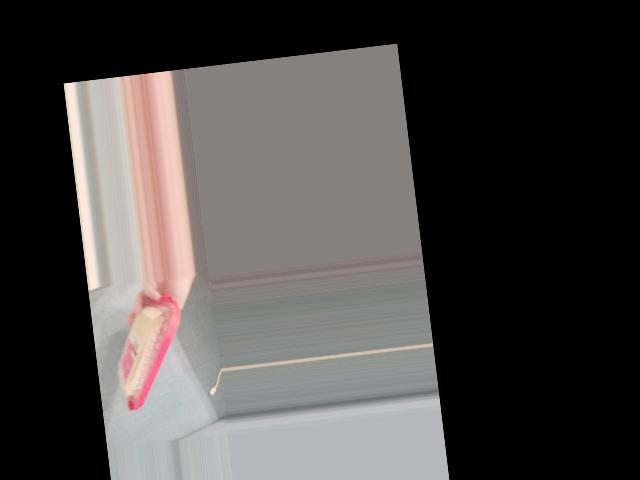cheese: (106, 289, 195, 413)
